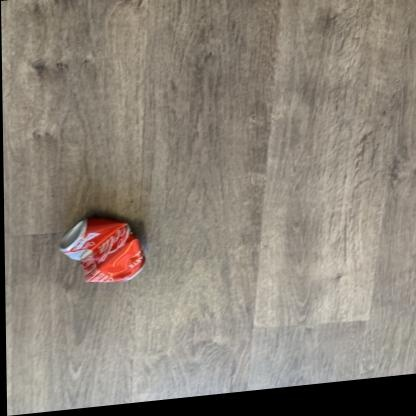trash: (60, 216, 144, 282)
